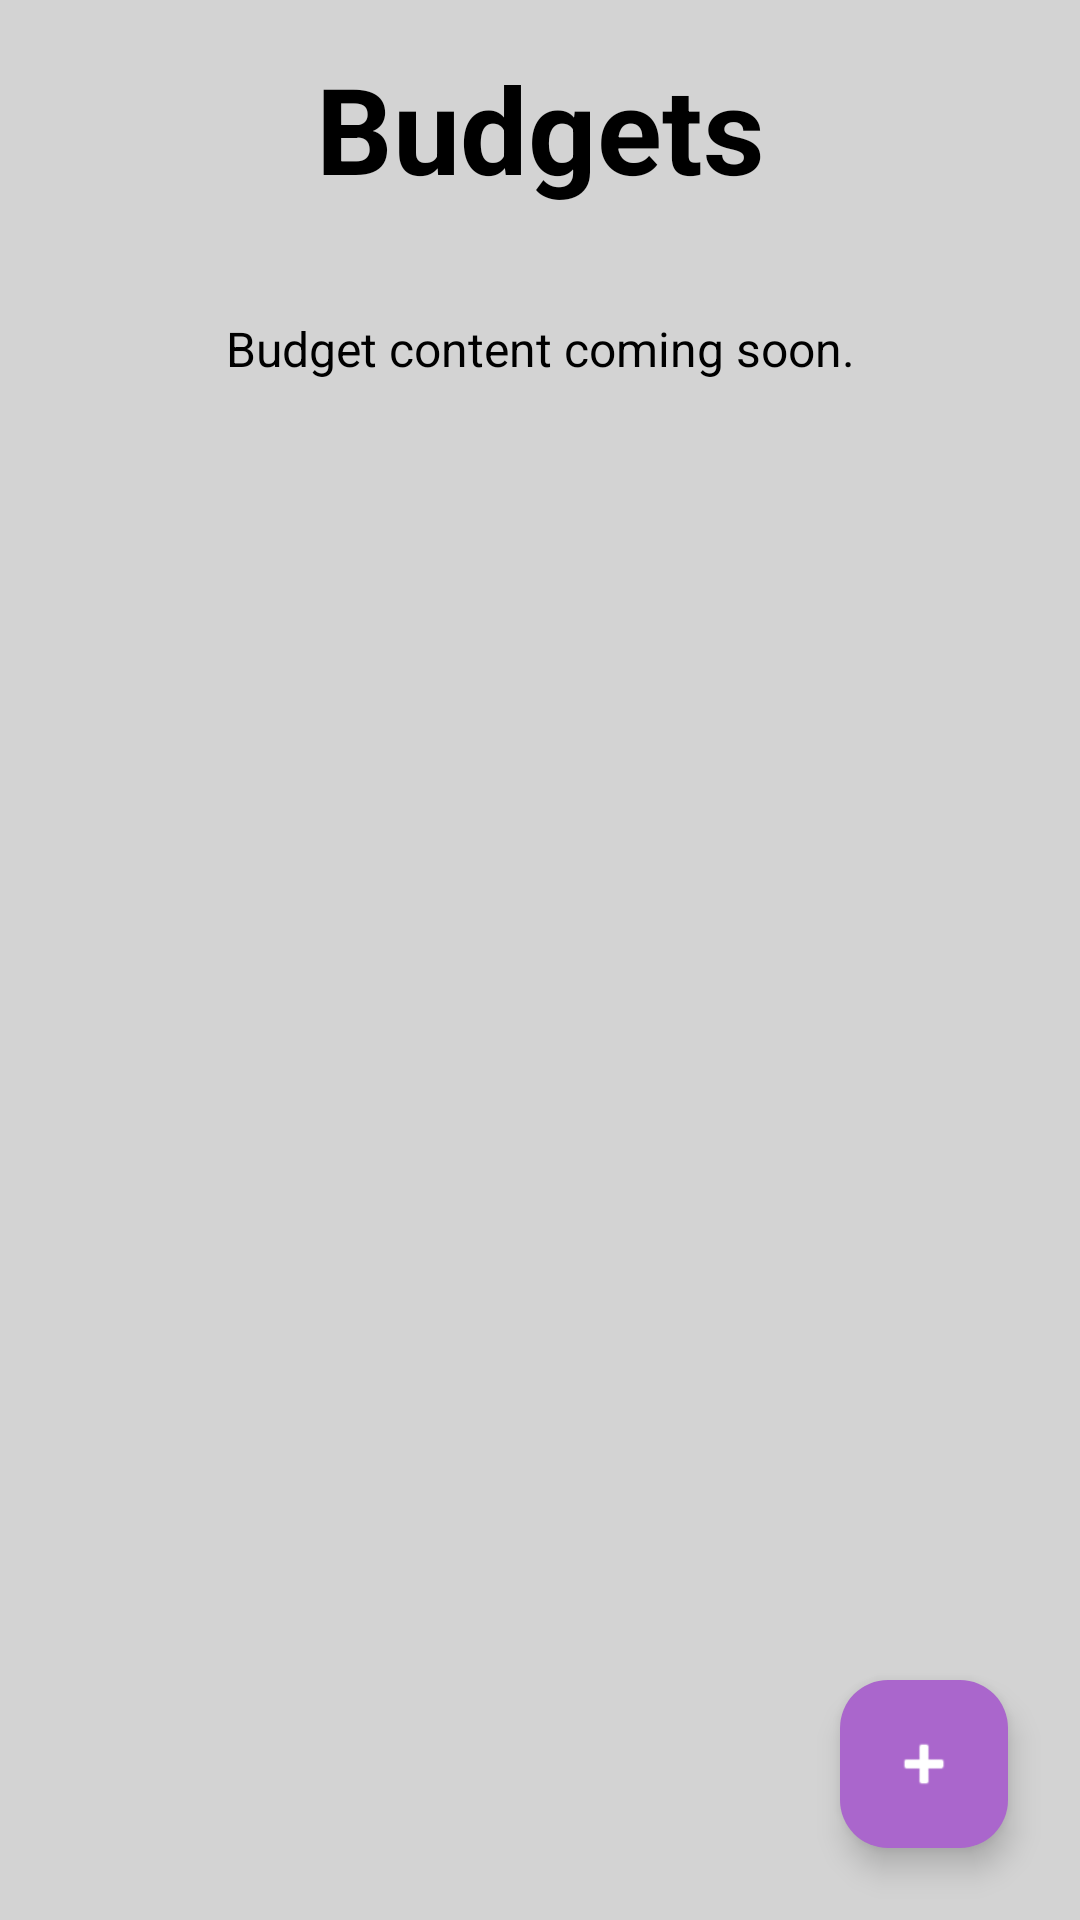

Screen size 1080w x 1920h. Icon name, then its box in pixels as (x1, y1, x2, y2):
Add Budget: (840, 1680, 1008, 1848)
